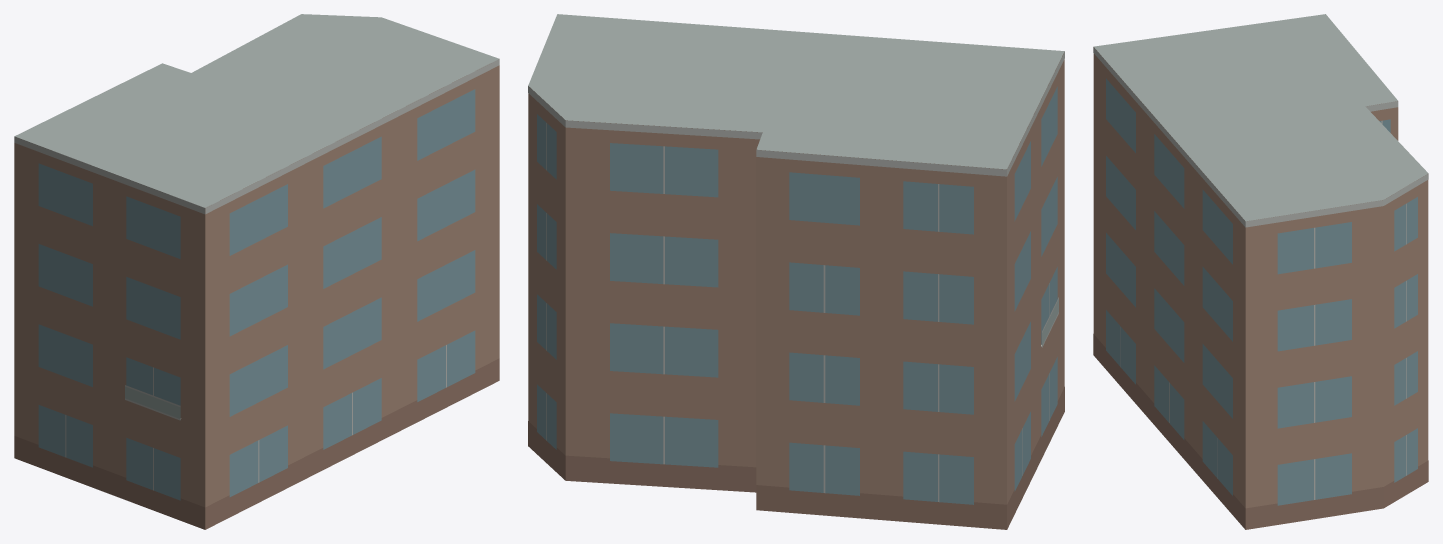
Rendered from survey-upis-32985515.glb.
3 renders of one model, left to right at view 1: azimuth 30°, elevation 25°; view 2: azimuth 150°, elevation 25°; view 3: azimuth 270°, elevation 25°, orthographic. The views are drawn at different scales.
Visible parts, largest first — view 1: survey-upis-32985515.tmp; view 2: survey-upis-32985515.tmp; view 3: survey-upis-32985515.tmp.
Part boxes in pixels (x1,y1,x2,y2): survey-upis-32985515.tmp: [14, 14, 499, 529]; survey-upis-32985515.tmp: [528, 14, 1064, 529]; survey-upis-32985515.tmp: [1093, 14, 1428, 529].
Bounding box in the file's own units: 17.6 × 12.2 × 12.02.
